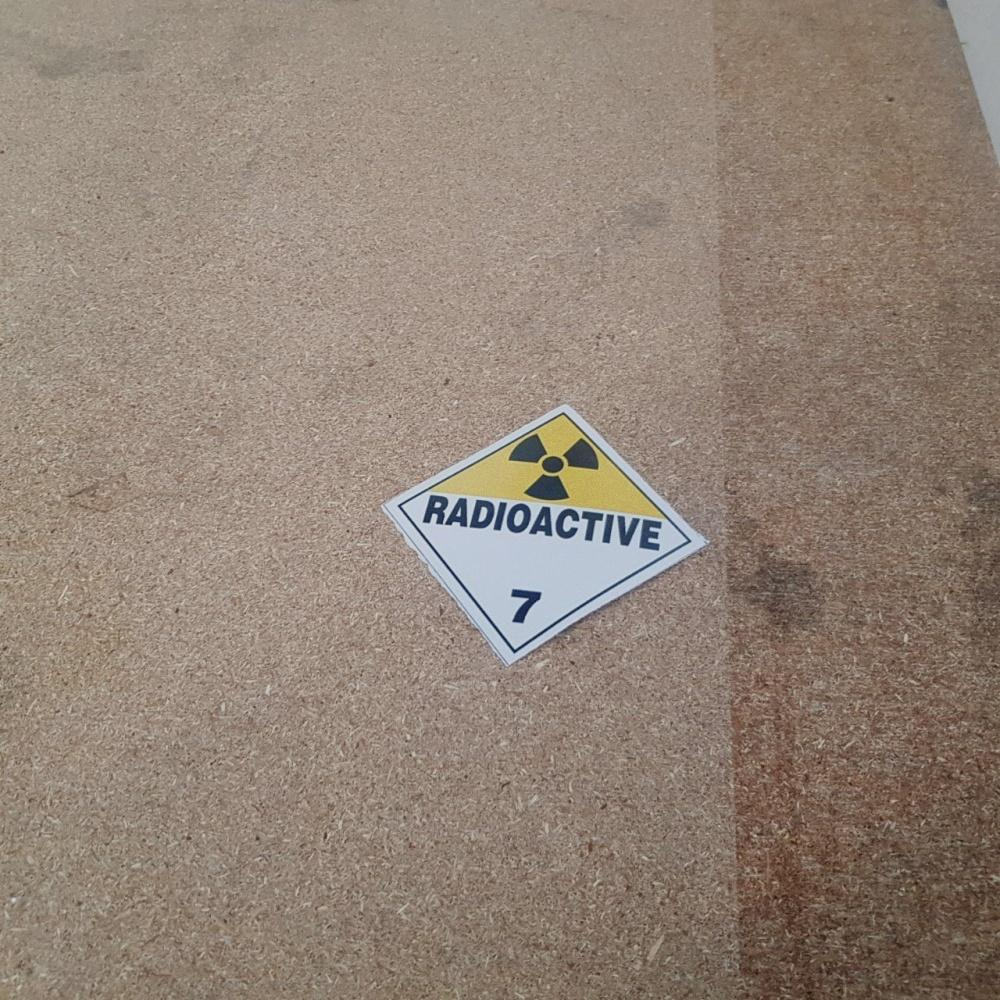radioactive: (376, 402, 713, 663)
